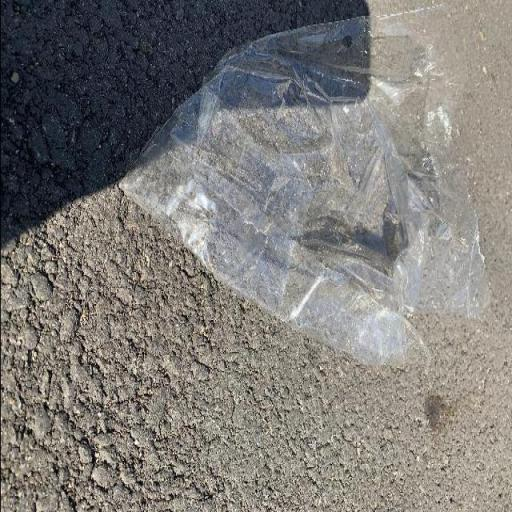plastic-bag: (116, 0, 494, 378)
